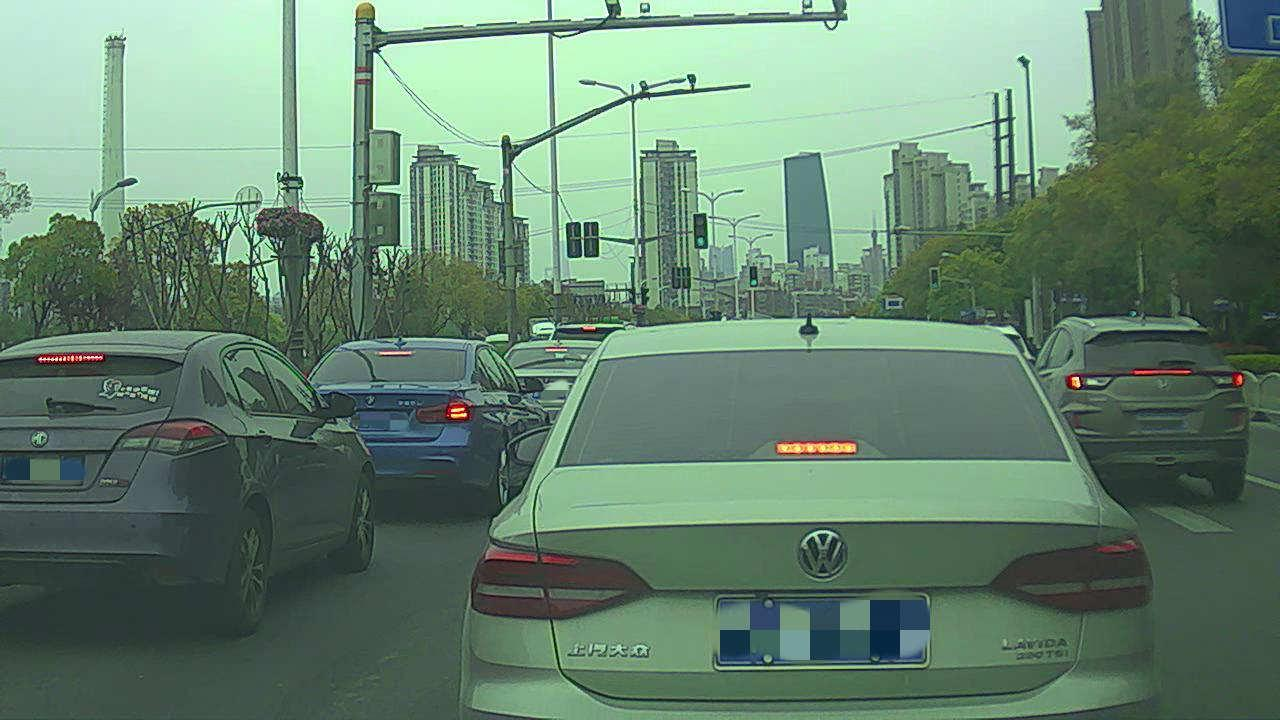traffic_light: (694, 215, 711, 249), (929, 265, 943, 294), (749, 264, 761, 289)
